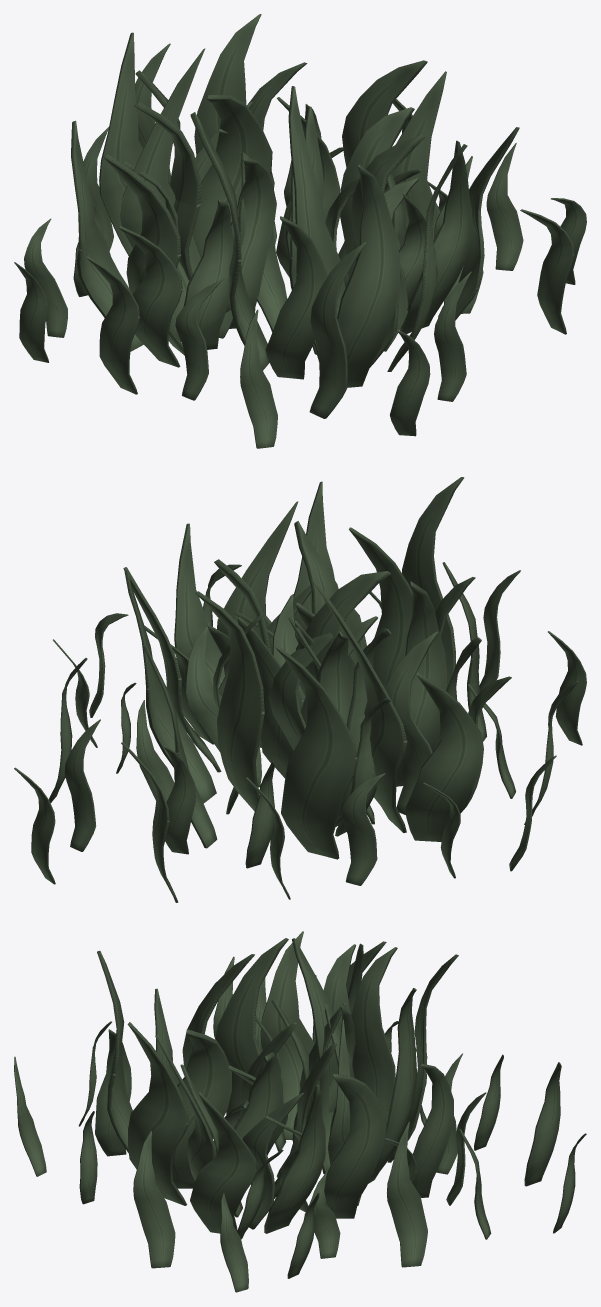
The model's file is Grass_Normal.fbx.
3 renders of one model, top to bottom at view 1: azimuth 30°, elevation 25°; view 2: azimuth 150°, elevation 25°; view 3: azimuth 270°, elevation 25°, orthographic. The views are drawn at different scales.
Parts seen in each view (by area): view 1: Grasspatch_LP; view 2: Grasspatch_LP; view 3: Grasspatch_LP.
Part boxes in pixels (x1,y1,x2,y2): Grasspatch_LP: (14,14,586,448); Grasspatch_LP: (14,477,586,902); Grasspatch_LP: (14,931,586,1292).
Size of the model in its own units: 32.88 by 15.7 by 36.28.
